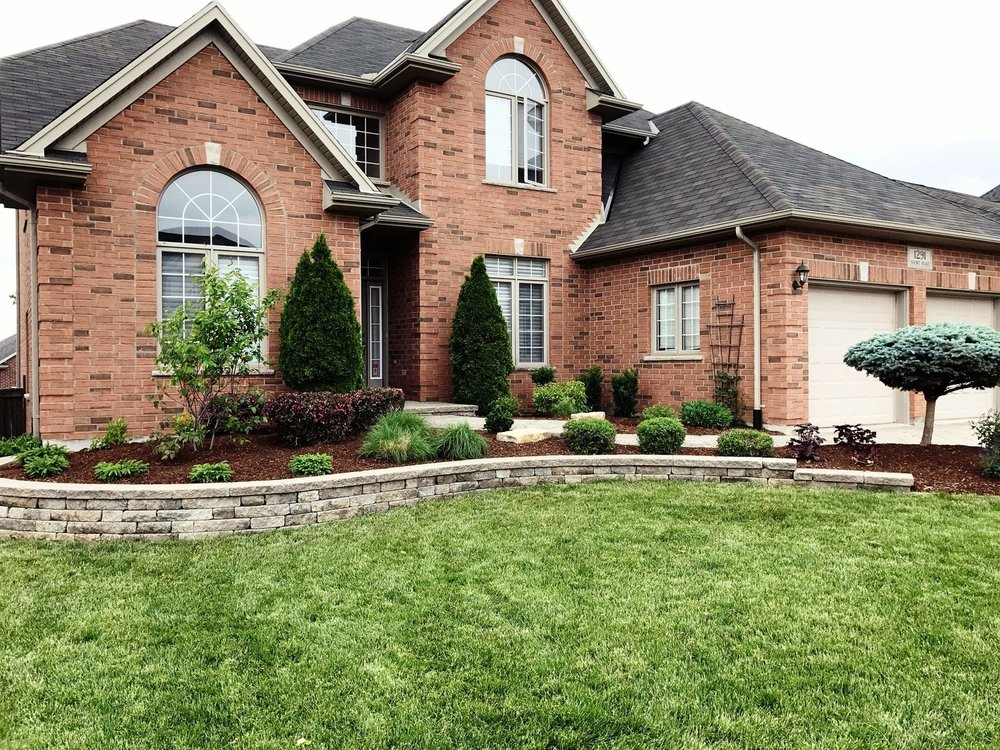tree: (144, 268, 266, 463), (837, 324, 1000, 454), (284, 235, 363, 399), (438, 251, 517, 404)
